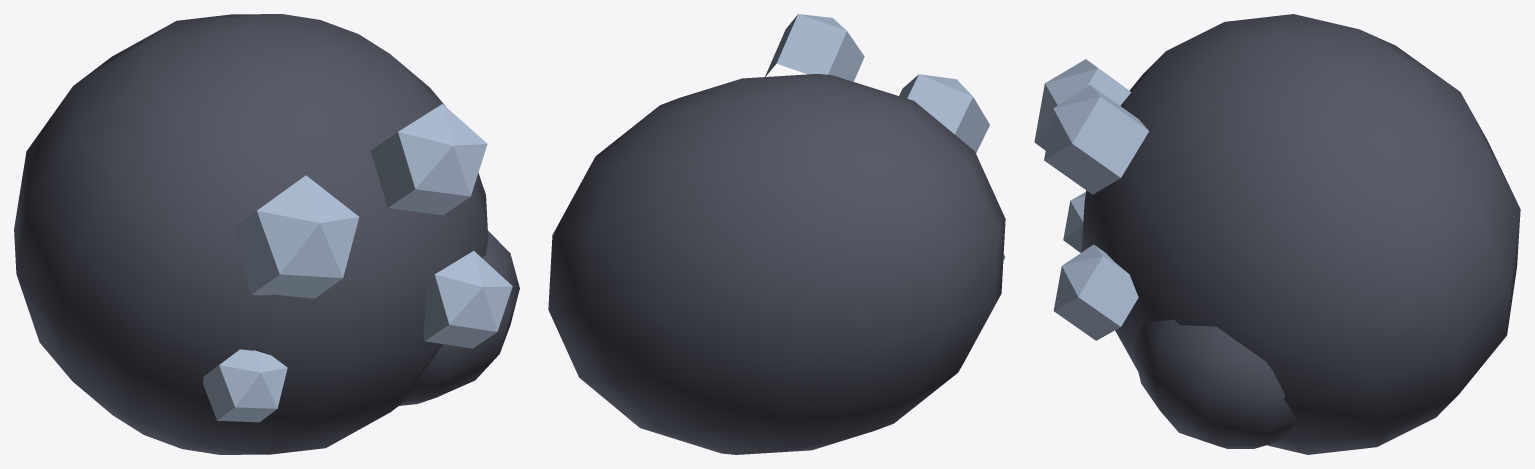
Rendered from mat_iron.glb.
3 renders of one model, left to right at view 1: azimuth 30°, elevation 25°; view 2: azimuth 150°, elevation 25°; view 3: azimuth 270°, elevation 25°, orthographic. The views are drawn at different scales.
Parts seen in each view (by area): view 1: _crystal; view 2: _crystal; view 3: _crystal.
Part boxes in pixels (bbox=[...]): _crystal: bbox=[14, 14, 519, 454]; _crystal: bbox=[548, 14, 1005, 454]; _crystal: bbox=[1034, 14, 1520, 454].
Size of the model in its own units: 0.7911 by 0.6879 by 0.8113.
